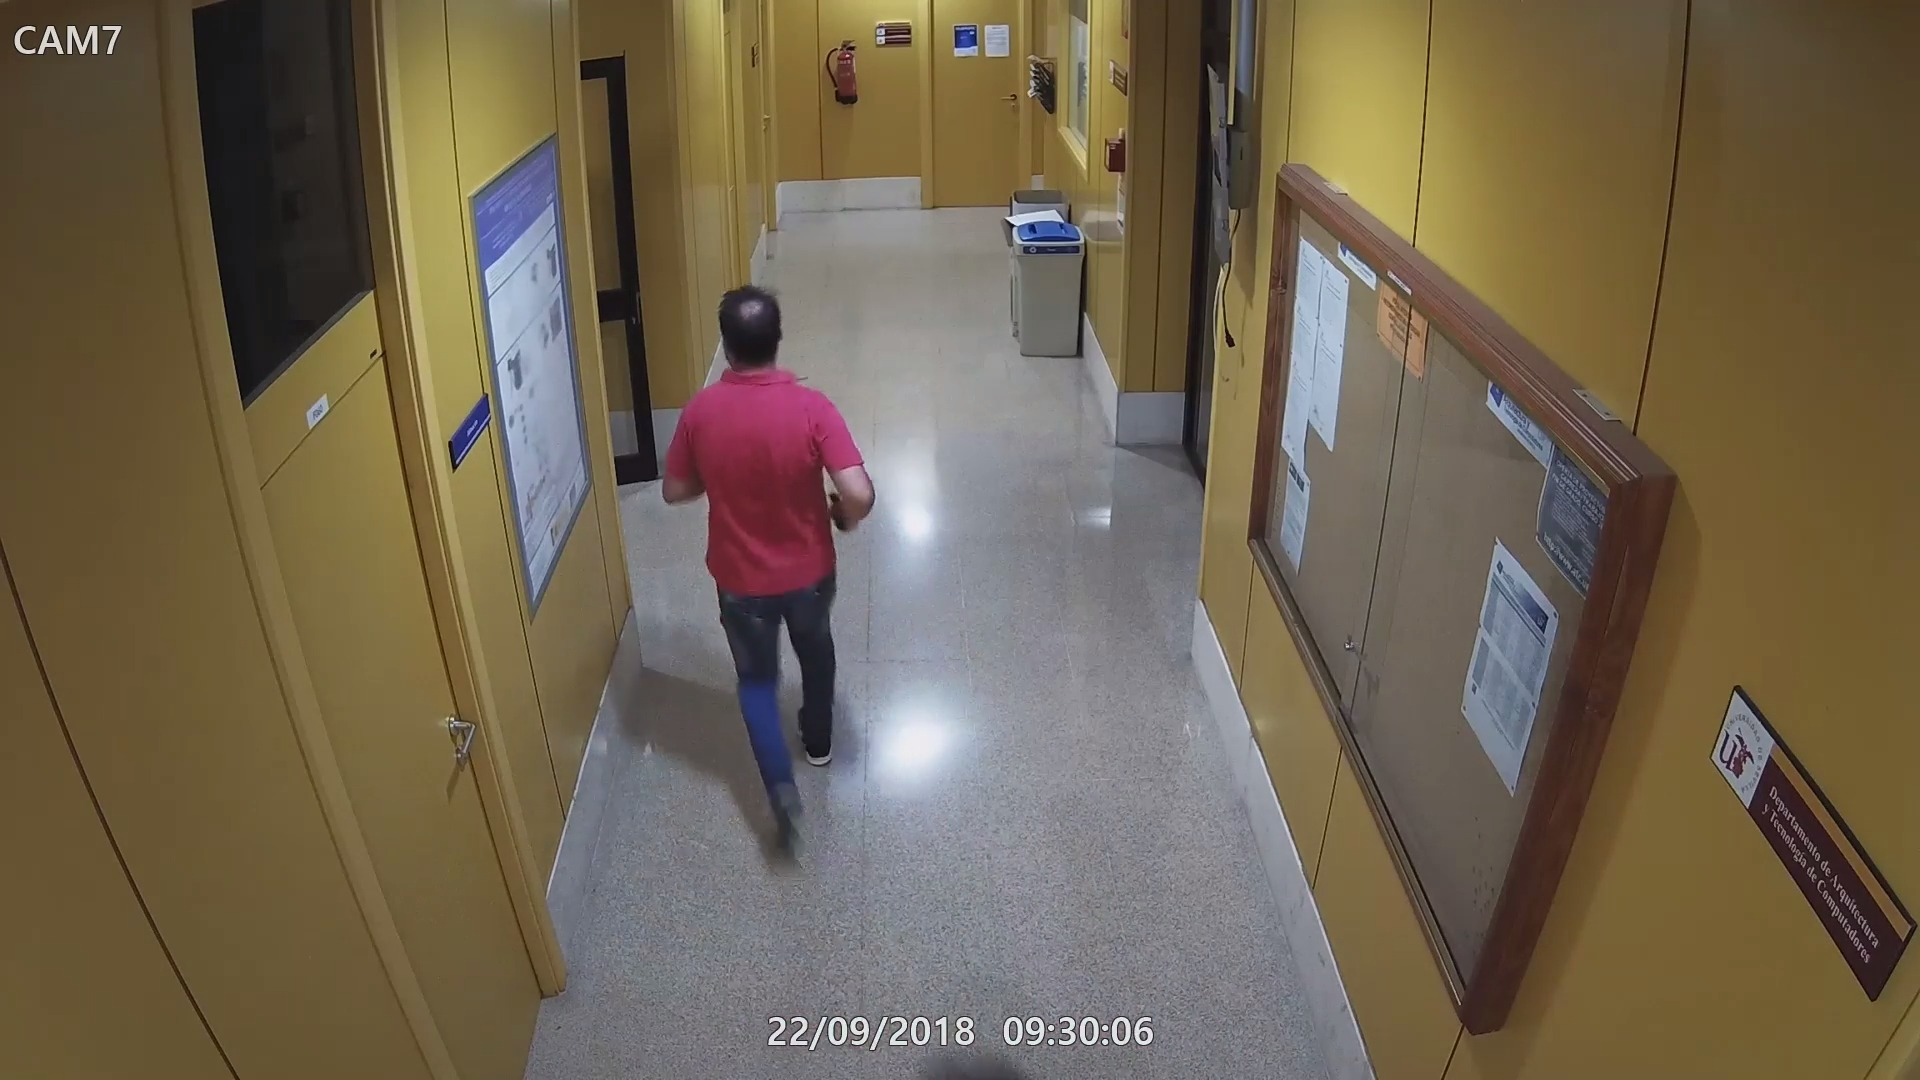Handgun: (827, 487, 860, 527)
